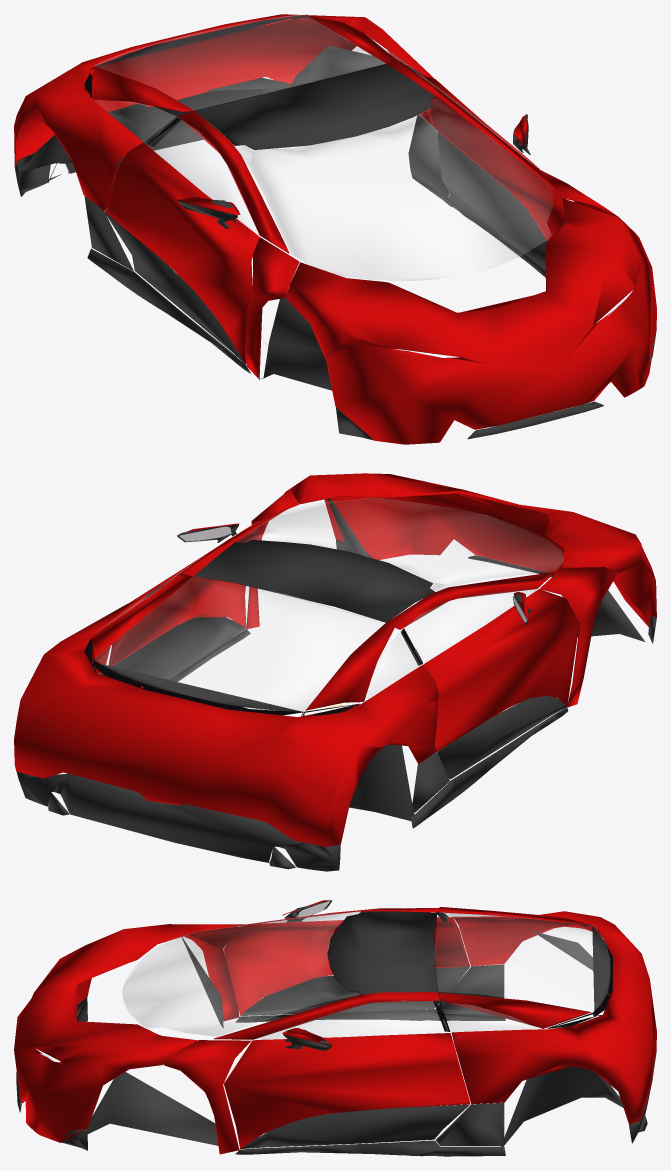
File: hypergt-lod.glb
The picture shows the model from 3 angles, top to bottom: view 1: azimuth 30°, elevation 25°; view 2: azimuth 150°, elevation 25°; view 3: azimuth 270°, elevation 25°; orthographic projection. The views are drawn at different scales.
Visible parts, largest first — view 1: BodyHood, BodyWindshield, BodyRearPanelsColor1, BodyRearwindow, BodyDoorRColor1, BodyPanelsColor2, BodyRoofPanel, BodyPillars, BodyUnderside, BodyDoorLColor1, BodyDoorLColor2, BodyDoorRWindow (+3 smaller); view 2: BodyRearPanelsColor1, BodyRearwindow, BodyHood, BodyWindshield, BodyPanelsColor2, BodyDoorRColor1, BodyRoofPanel, BodyPillars, BodyUnderside, BodyDoorLColor1, BodyDoorLColor2, BodyDoorRWindow (+3 smaller); view 3: BodyRearPanelsColor1, BodyWindshield, BodyHood, BodyDoorLColor1, BodyRearwindow, BodyUnderside, BodyPanelsColor2, BodyPillars, BodyDoorRColor1, BodyRoofPanel, BodyDoorLColor2, BodyDoorLWindow (+4 smaller).
Part boxes in pixels (x1,y1,x2,y2): BodyHood: (285,198,656,444); BodyWindshield: (236,98,552,280); BodyRearPanelsColor1: (14,14,434,210); BodyRearwindow: (95,15,385,110); BodyDoorRColor1: (104,142,259,364); BodyPanelsColor2: (15,77,656,440); BodyRoofPanel: (195,64,435,149); BodyPillars: (178,60,617,379); BodyUnderside: (19,45,385,390); BodyDoorLColor1: (421,75,566,240); BodyDoorLColor2: (437,131,548,269); BodyDoorRWindow: (148,120,258,234); BodyRearPanelsColor1: (14,576,438,846); BodyRearwindow: (95,576,384,710); BodyHood: (286,473,656,627); BodyWindshield: (237,497,563,591); BodyPanelsColor2: (16,539,656,871); BodyDoorRColor1: (421,589,579,751); BodyRoofPanel: (194,540,435,622); BodyPillars: (177,489,617,707); BodyUnderside: (48,498,644,869); BodyDoorLColor1: (108,521,259,666); BodyDoorLColor2: (111,615,245,679); BodyDoorRWindow: (405,589,536,662); BodyRearPanelsColor1: (438,907,656,1124); BodyWindshield: (122,912,359,1036); BodyHood: (14,924,197,1142); BodyDoorLColor1: (224,1033,470,1148); BodyRearwindow: (434,912,609,1011); BodyUnderside: (87,931,647,1147); BodyPanelsColor2: (16,964,656,1156); BodyPillars: (164,908,440,1154); BodyDoorRColor1: (223,917,470,1015); BodyRoofPanel: (327,911,437,994); BodyDoorLColor2: (241,1104,470,1148); BodyDoorLWindow: (256,1000,443,1039).
Size of the model in its own units: 2.33 by 1.05 by 4.35.
Materials: 9 (1 with a texture image).
